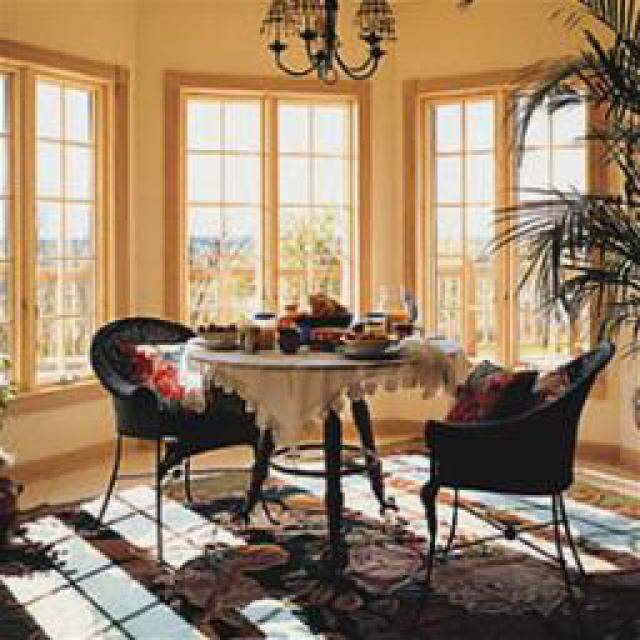2001: (415, 75, 580, 370), (180, 90, 360, 318), (28, 72, 98, 380)
ceiling lamps: (255, 0, 385, 80)
chair -occluded-: (420, 340, 610, 602), (85, 315, 275, 552)
cup and saucer: (275, 322, 298, 352)
jar -X: (250, 308, 272, 345)
pillow occluded: (115, 340, 200, 405), (442, 370, 528, 420)
pitcher: (368, 282, 415, 332)
plant -x: (480, 0, 638, 438)
plate food: (332, 332, 395, 355), (190, 338, 242, 348)
table -X: (188, 322, 462, 560)
